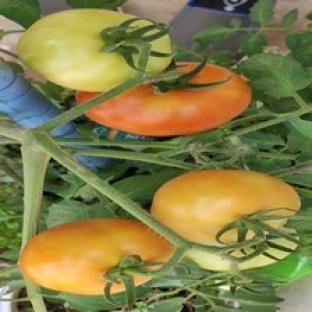Tomato: (85, 65, 252, 136), (20, 219, 172, 295), (151, 170, 300, 245), (17, 9, 135, 91)
